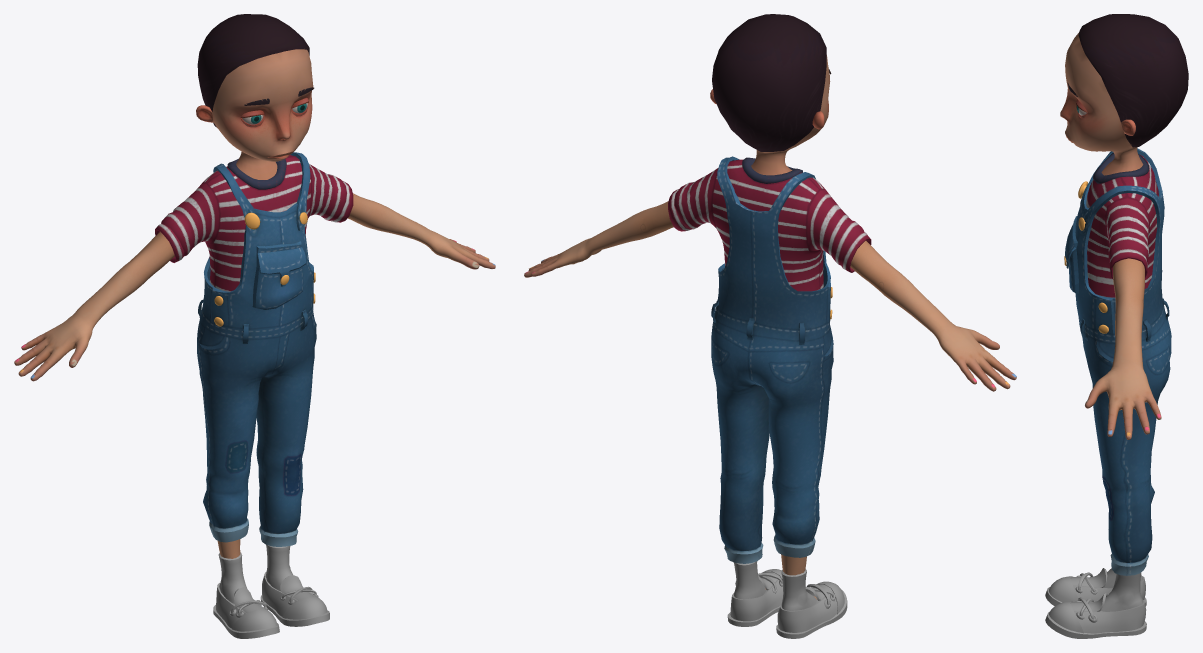
File: nino.obj
3 views of the same model, side by side, from view 1: azimuth 30°, elevation 25°; view 2: azimuth 150°, elevation 25°; view 3: azimuth 270°, elevation 25° (orthographic). The views are drawn at different scales.
Parts seen in each view (by area): view 1: LEGS_jeans_01_0, FACE_girl_01_0, TORSO_tshirt_01_0, BODY_girl_03_0, FEETS_shoes_04_0; view 2: LEGS_jeans_01_0, FACE_girl_01_0, TORSO_tshirt_01_0, BODY_girl_03_0, FEETS_shoes_04_0; view 3: LEGS_jeans_01_0, FACE_girl_01_0, TORSO_tshirt_01_0, BODY_girl_03_0, FEETS_shoes_04_0.
Part boxes in pixels (left/top/right/bottom): LEGS_jeans_01_0: left=197, top=152, right=316, bottom=546; FACE_girl_01_0: left=196, top=14, right=314, bottom=179; TORSO_tshirt_01_0: left=155, top=155, right=353, bottom=291; BODY_girl_03_0: left=14, top=193, right=495, bottom=558; FEETS_shoes_04_0: left=213, top=545, right=329, bottom=638; LEGS_jeans_01_0: left=711, top=156, right=833, bottom=563; FACE_girl_01_0: left=710, top=14, right=831, bottom=175; TORSO_tshirt_01_0: left=668, top=157, right=871, bottom=291; BODY_girl_03_0: left=524, top=201, right=1016, bottom=599; FEETS_shoes_04_0: left=727, top=561, right=847, bottom=638; LEGS_jeans_01_0: left=1064, top=148, right=1171, bottom=575; FACE_girl_01_0: left=1060, top=14, right=1188, bottom=175; TORSO_tshirt_01_0: left=1086, top=153, right=1158, bottom=297; BODY_girl_03_0: left=1085, top=258, right=1161, bottom=439; FEETS_shoes_04_0: left=1045, top=568, right=1146, bottom=638.
Bounding box in the file's own units: 1.63 × 1.96 × 0.4254.
Materials: 4 (3 with a texture image).
